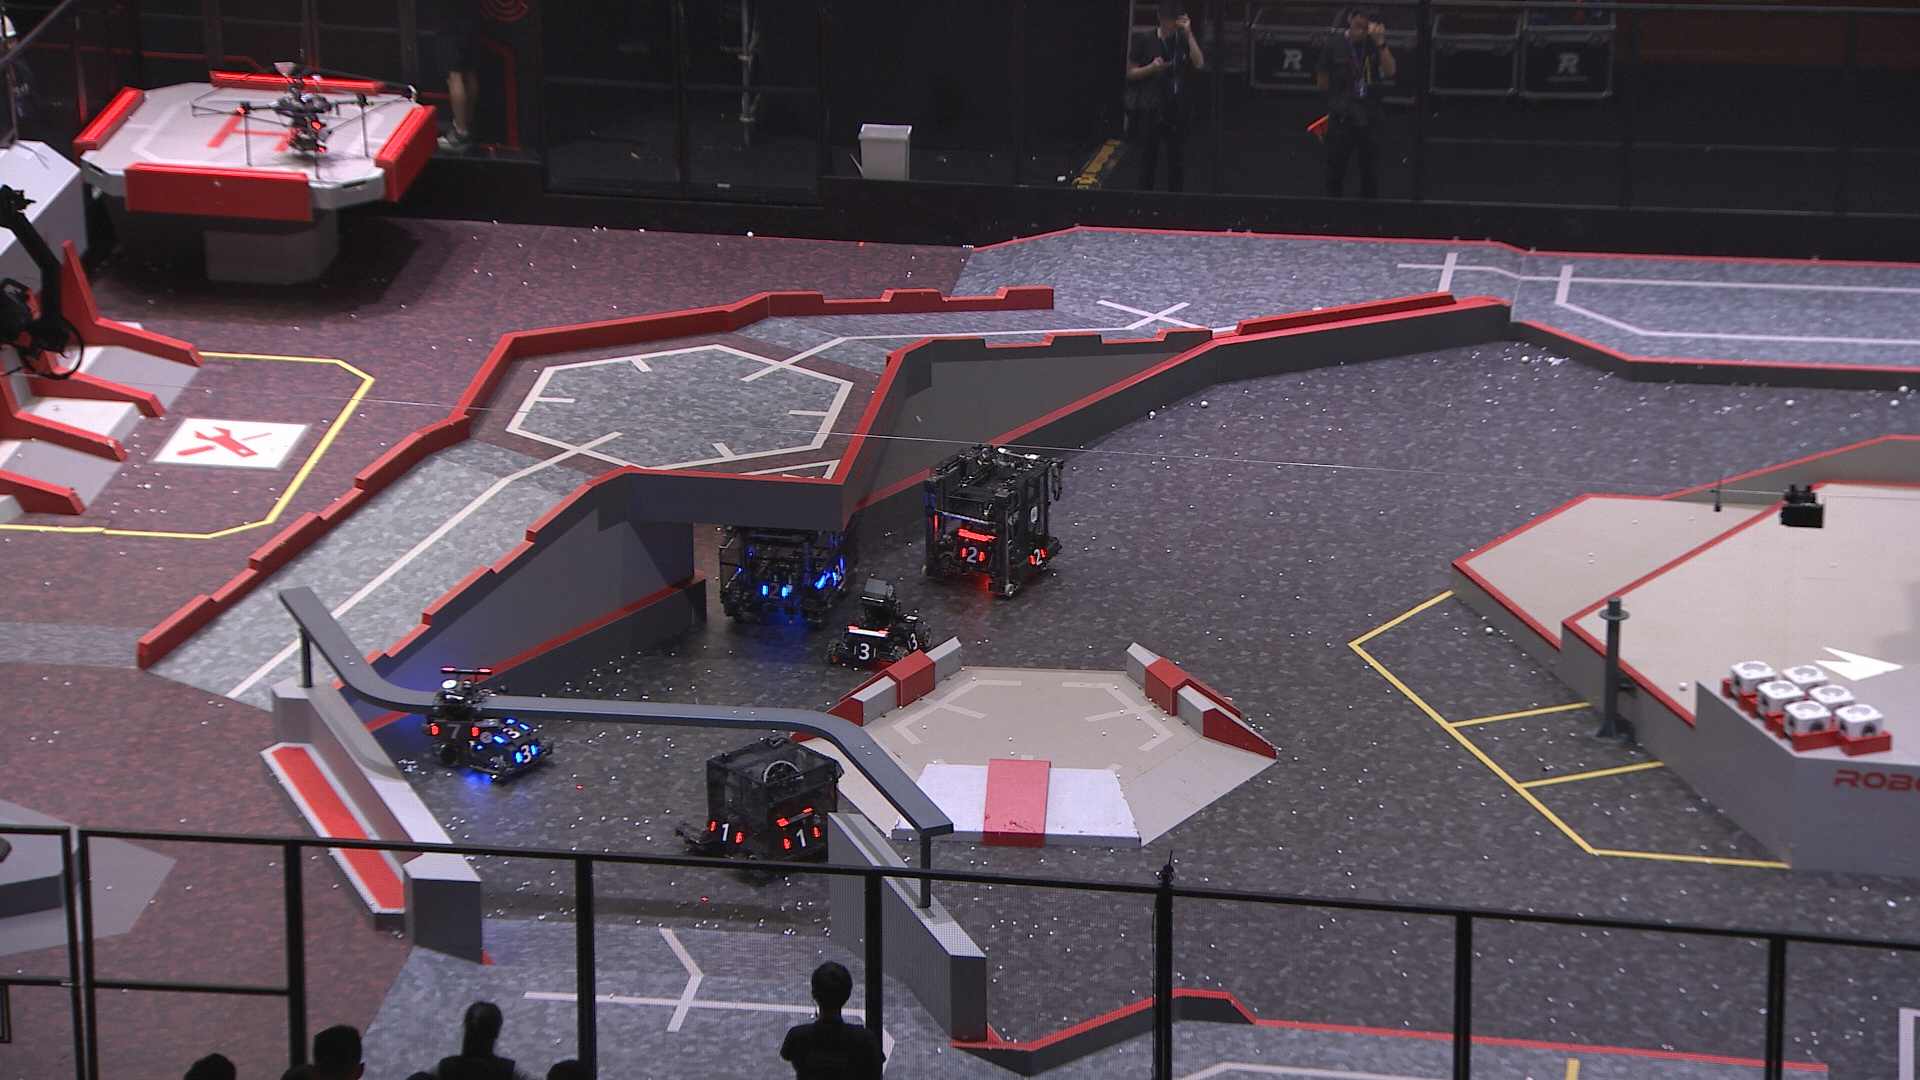armor: (425, 721, 481, 742), (782, 825, 822, 851), (491, 719, 527, 745), (708, 818, 744, 844), (760, 579, 789, 603), (959, 545, 986, 567), (851, 641, 880, 662), (513, 742, 541, 764), (1026, 546, 1048, 568), (829, 560, 845, 585), (903, 632, 922, 651)
car: (920, 438, 1068, 600), (700, 728, 849, 887), (717, 501, 855, 629), (825, 574, 936, 678), (448, 684, 553, 783)
watcher: (419, 665, 508, 766)
